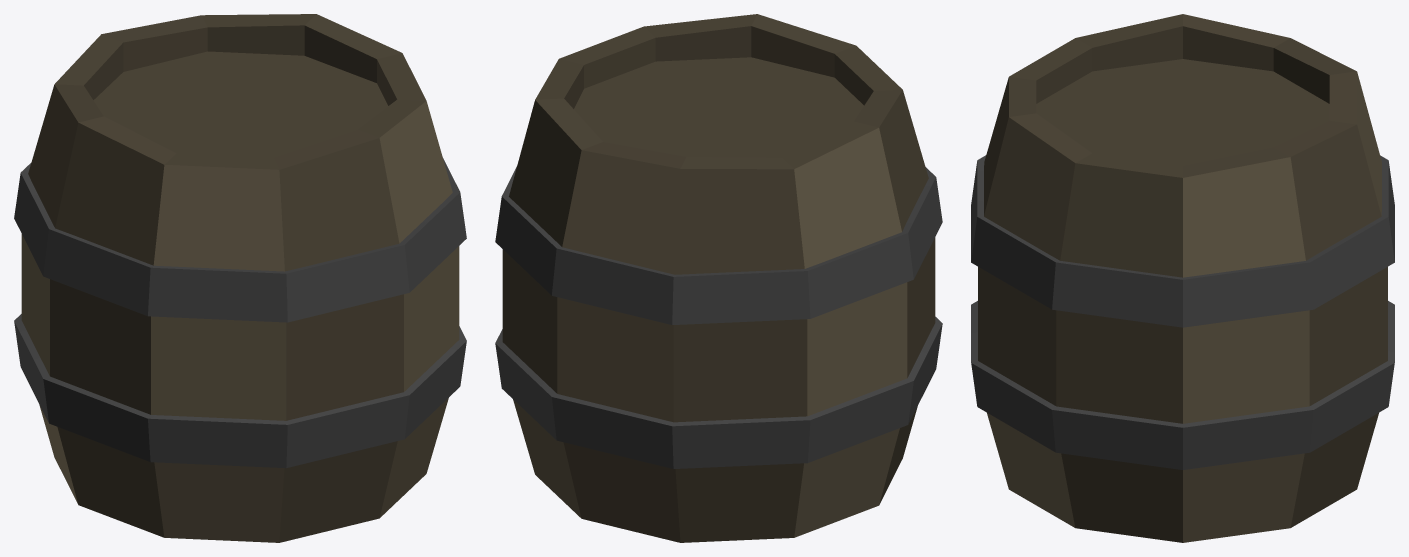
Rendered from I_Barrel.fbx.
3 views of the same model, side by side, from view 1: azimuth 30°, elevation 25°; view 2: azimuth 150°, elevation 25°; view 3: azimuth 270°, elevation 25° (orthographic). The views are drawn at different scales.
Parts seen in each view (by area): view 1: Barrel1; view 2: Barrel1; view 3: Barrel1.
Boxes of the visible parts, box(x1,y1,x2,y2) form: Barrel1: box(14, 14, 466, 542); Barrel1: box(495, 14, 942, 542); Barrel1: box(971, 14, 1394, 542).
Size of the model in its own units: 2.43 by 2.26 by 2.31.
